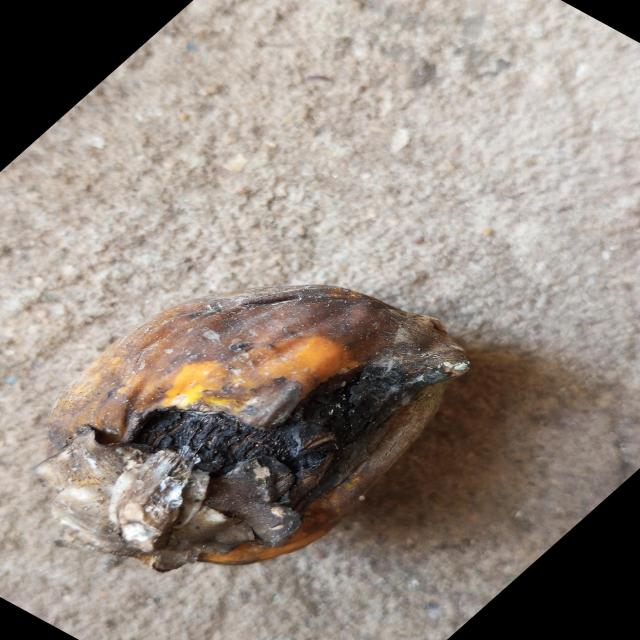damaged: (89, 287, 470, 573)
